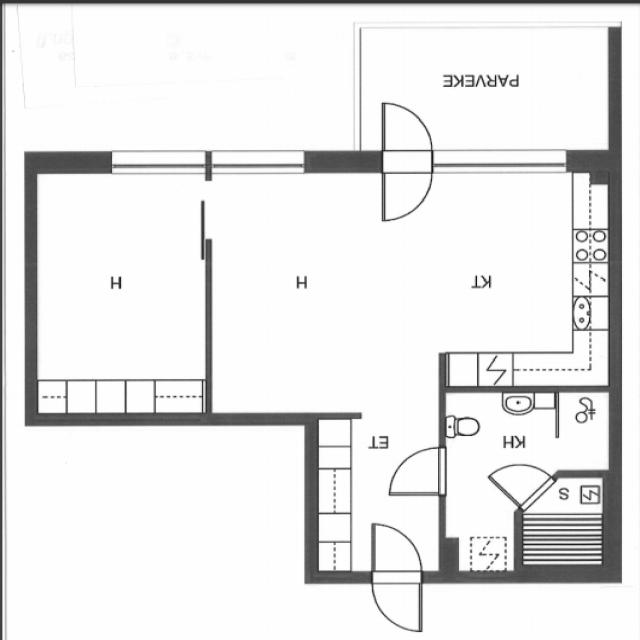door: (376, 96, 437, 222), (364, 518, 429, 633), (386, 439, 452, 498)
window: (311, 418, 444, 573), (440, 388, 617, 504), (428, 150, 573, 179), (206, 144, 314, 178), (100, 143, 210, 175)
zone: (210, 172, 618, 415), (36, 165, 210, 409), (436, 391, 626, 575), (313, 421, 444, 574), (518, 470, 612, 574)
